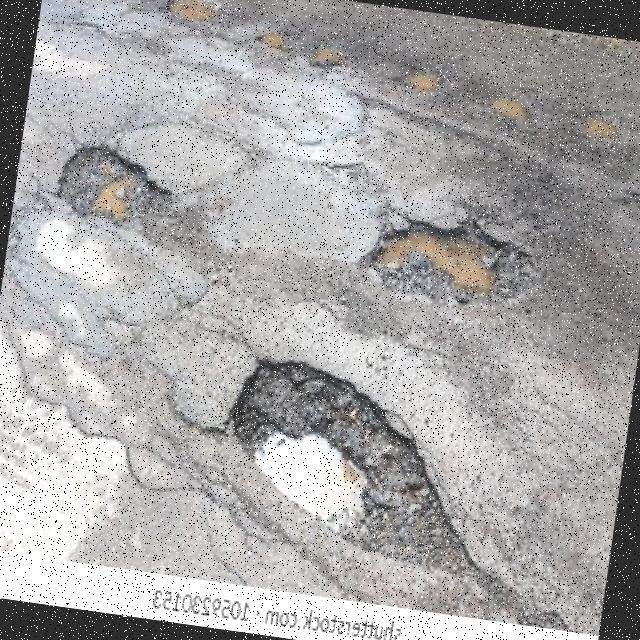Pothole: (228, 361, 461, 569), (370, 220, 536, 302), (52, 146, 172, 230)
